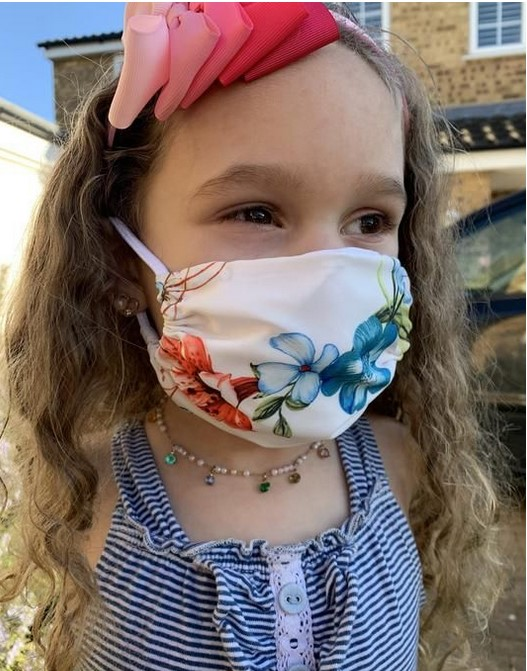face_with_mask: (101, 2, 435, 456)
